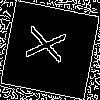X: (25, 24, 76, 67)
